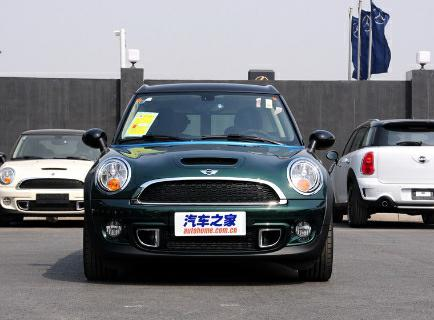MINI CLUBMAN: (74, 86, 344, 287), (325, 118, 434, 224)
